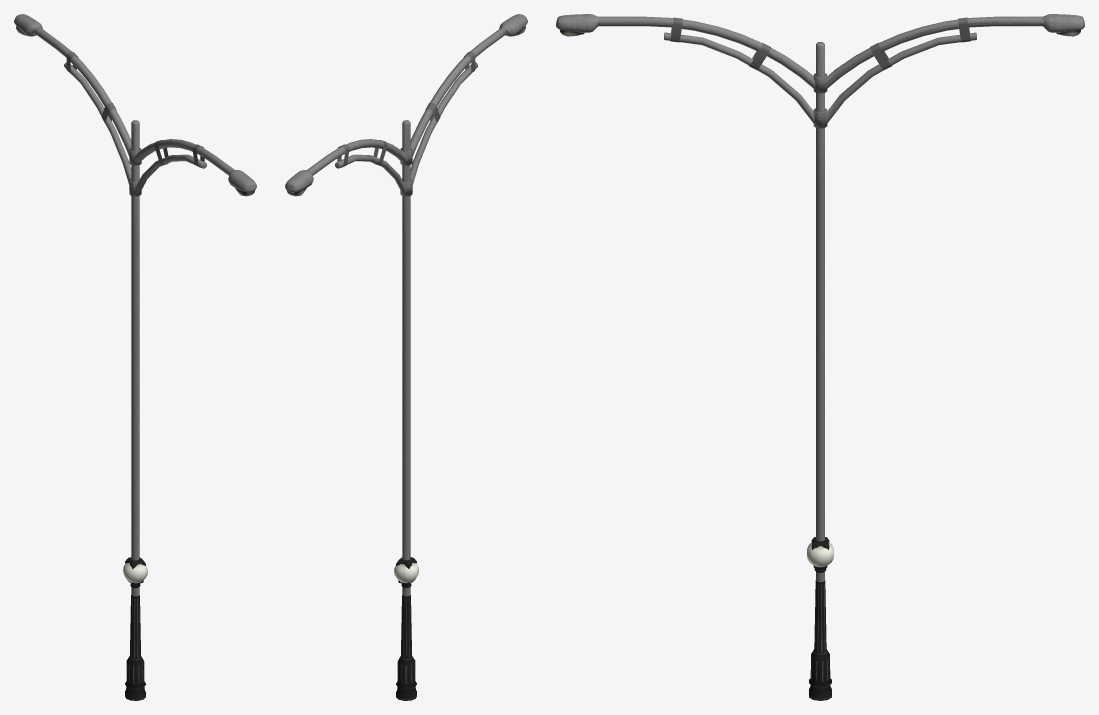
The model's file is StreetLights_mesh.fbx.
3 renders of one model, left to right at view 1: azimuth 30°, elevation 25°; view 2: azimuth 150°, elevation 25°; view 3: azimuth 270°, elevation 25°, orthographic. The views are drawn at different scales.
Parts seen in each view (by area): view 1: streetLightTall02, streetLightTall01, streetLightTall03, streetLight01, streetLight03, streetLightTall04; view 2: streetLightTall02, streetLightTall01, streetLightTall04, streetLight01, streetLightTall03, streetLight03; view 3: streetLightTall02, streetLightTall01, streetLightTall04, streetLight01.
Part boxes in pixels (x1=…): streetLightTall02: x1=14, y1=14, x2=256, y2=596; streetLightTall01: x1=129, y1=120, x2=256, y2=596; streetLightTall03: x1=129, y1=120, x2=231, y2=595; streetLight01: x1=123, y1=563, x2=147, y2=700; streetLight03: x1=125, y1=656, x2=145, y2=698; streetLightTall04: x1=38, y1=28, x2=140, y2=595; streetLightTall02: x1=285, y1=14, x2=527, y2=596; streetLightTall01: x1=400, y1=14, x2=527, y2=596; streetLightTall04: x1=313, y1=123, x2=416, y2=596; streetLight01: x1=394, y1=563, x2=418, y2=700; streetLightTall03: x1=403, y1=27, x2=507, y2=594; streetLight03: x1=396, y1=656, x2=416, y2=698; streetLightTall02: x1=556, y1=14, x2=1084, y2=581; streetLightTall01: x1=556, y1=14, x2=827, y2=581; streetLightTall04: x1=806, y1=16, x2=1042, y2=582; streetLight01: x1=807, y1=542, x2=833, y2=700.
Size of the model in its own units: 60 by 1568 by 1104.
